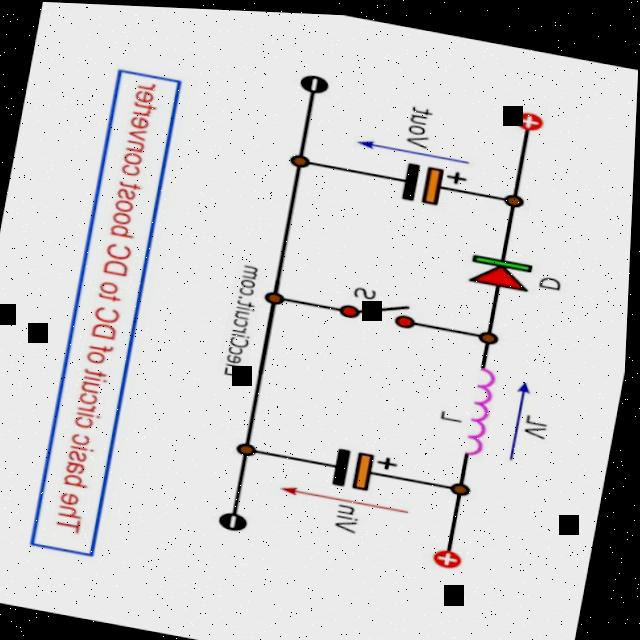capacitor: (382, 151, 471, 217), (315, 432, 387, 500)
diode: (462, 237, 546, 301)
inductor: (436, 349, 518, 464)
node: (279, 146, 329, 176), (228, 433, 276, 462), (254, 284, 303, 312), (439, 470, 484, 498), (496, 182, 540, 208), (467, 319, 509, 345)
switch: (338, 284, 434, 339)
